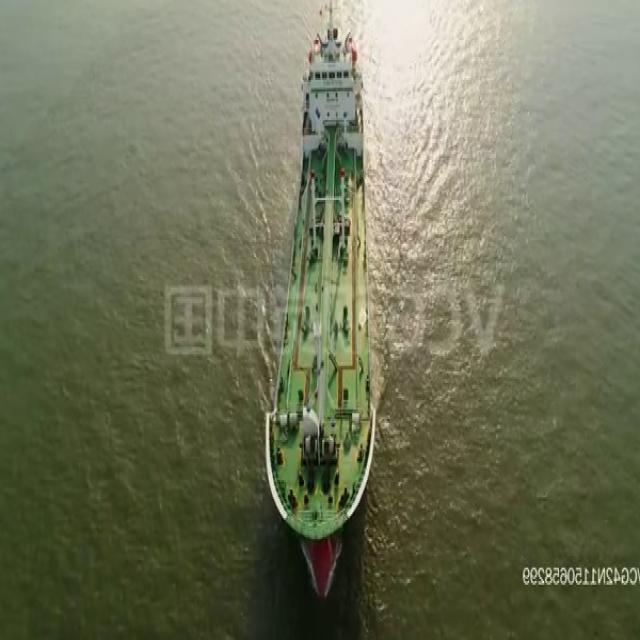cargoship: (262, 11, 380, 590)
